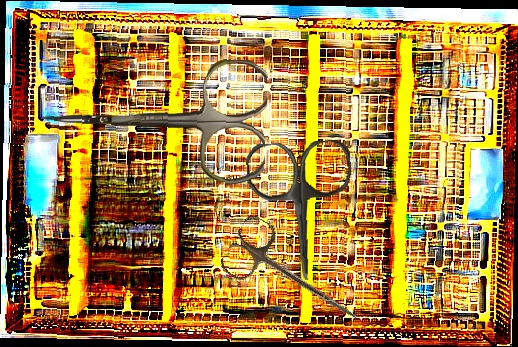Iris Scissors: (39, 53, 269, 185), (216, 212, 375, 342), (245, 139, 357, 283)
